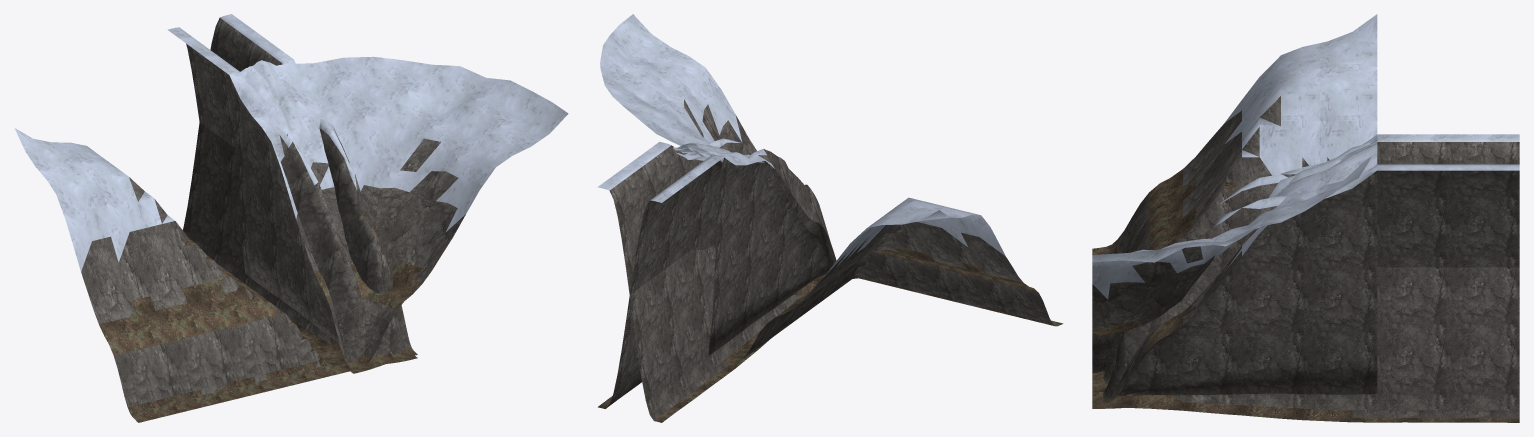
File: bk_mountain_autumn.glb
3 renders of one model, left to right at view 1: azimuth 30°, elevation 25°; view 2: azimuth 150°, elevation 25°; view 3: azimuth 270°, elevation 25°, orthographic. The views are drawn at different scales.
Visible parts, largest first — view 1: corner_inner, corner_outer, endcap_sea_to_land, pass12, endcap_land_to_sea, straight12_a, straight12_c, straight6, straight12_b; view 2: endcap_sea_to_land, corner_inner, pass12, corner_outer, endcap_land_to_sea; view 3: endcap_land_to_sea, pass12, corner_inner, endcap_sea_to_land, corner_outer, straight12_a, straight12_b, straight12_c.
Boxes of the visible parts, x1,y1,x2,y2 form: corner_inner: (14, 128, 353, 422); corner_outer: (238, 56, 568, 370); endcap_sea_to_land: (183, 14, 412, 373); pass12: (229, 76, 417, 369); endcap_land_to_sea: (167, 27, 417, 366); straight12_a: (239, 60, 416, 368); straight12_c: (244, 62, 322, 149); straight6: (229, 73, 337, 331); straight12_b: (234, 72, 396, 360); endcap_sea_to_land: (597, 138, 825, 422); corner_inner: (724, 197, 1063, 362); pass12: (708, 157, 833, 355); corner_outer: (600, 14, 756, 162); endcap_land_to_sea: (598, 149, 836, 408); endcap_land_to_sea: (1092, 134, 1519, 422); pass12: (1092, 171, 1377, 405); corner_inner: (1092, 14, 1377, 254); endcap_sea_to_land: (1103, 164, 1519, 403); corner_outer: (1092, 139, 1376, 373); straight12_a: (1093, 140, 1377, 404); straight12_b: (1103, 136, 1377, 393); straight12_c: (1111, 141, 1377, 398).
Bounding box in the file's own units: 80 × 40.34 × 60.
3 materials, 3 textured.
